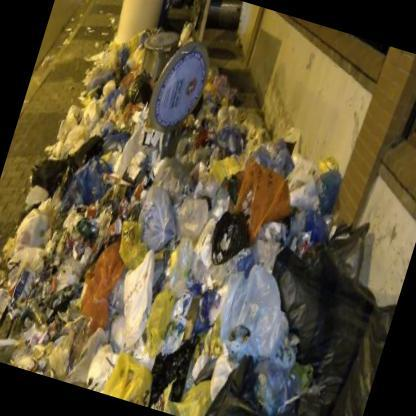Garbage: (139, 182, 368, 415), (0, 54, 160, 382), (77, 234, 239, 415), (199, 255, 381, 415), (87, 130, 214, 277), (210, 130, 338, 262), (183, 88, 253, 168)
